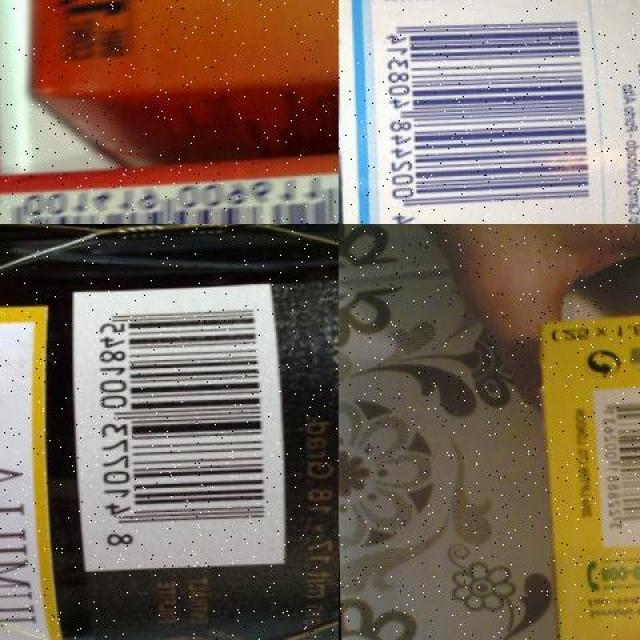Barcode: (71, 285, 284, 570), (369, 0, 599, 224), (0, 172, 339, 224), (592, 383, 640, 544)
